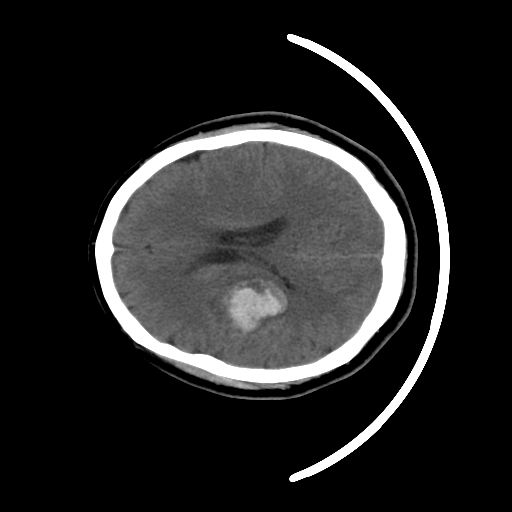a: (192, 262, 300, 349)
